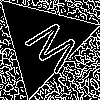W: (17, 16, 83, 83)
